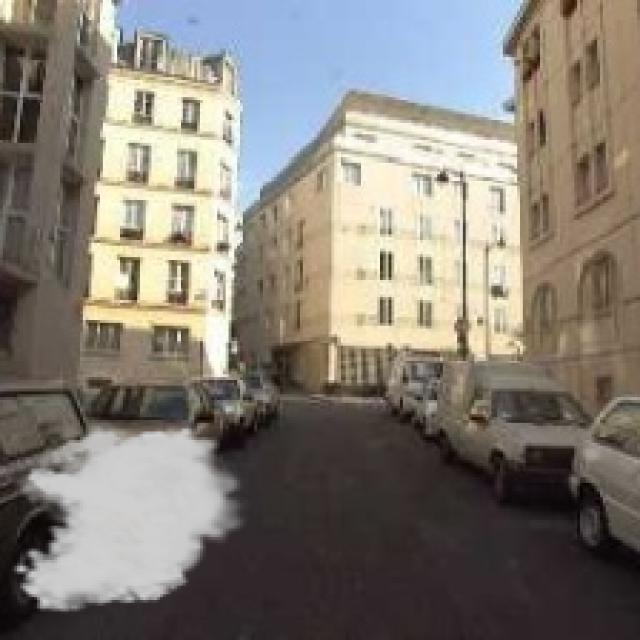Smoke: (12, 414, 252, 614)
